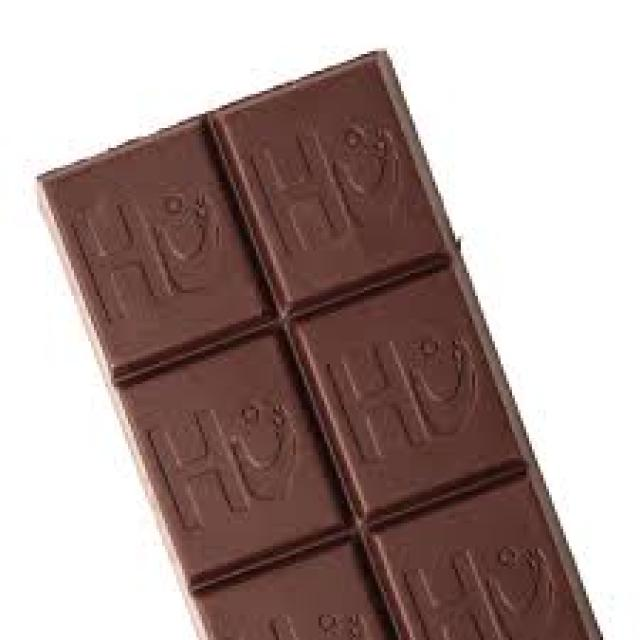Chocolate: (38, 47, 605, 640)
